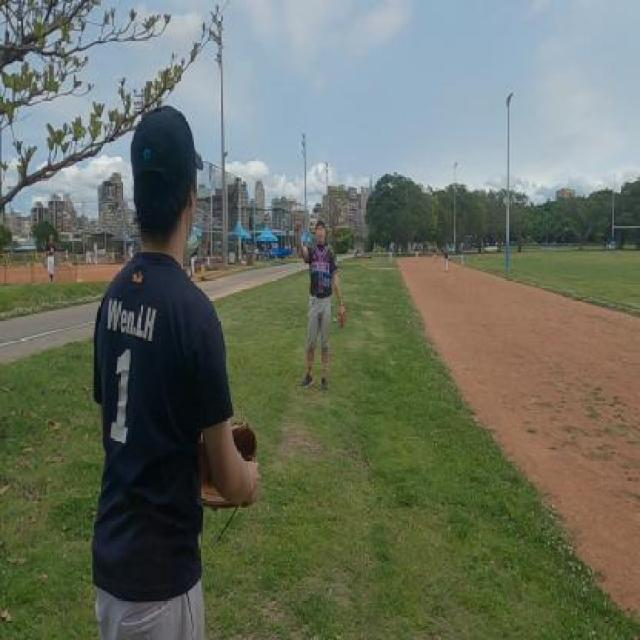baseball: (289, 196, 294, 204)
